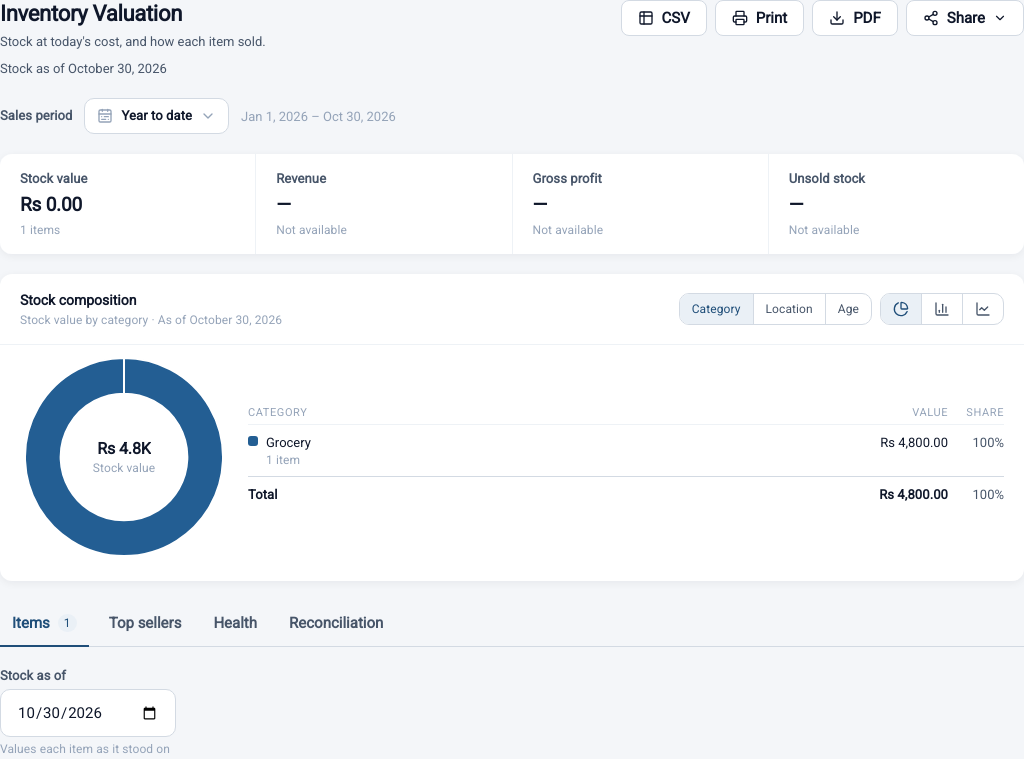
Test: InventoryValuationPage — stock composition › switches to bars and to the month-end line, keeping the choice in the URL
Expected: the table named "Stock value by category" is shown, [248,402,1004,512]
What coordinates should you click on to do the following:
click the button named "Bar chart"
I would click on:
 (942, 309)
Its box is [921,294,962,324].
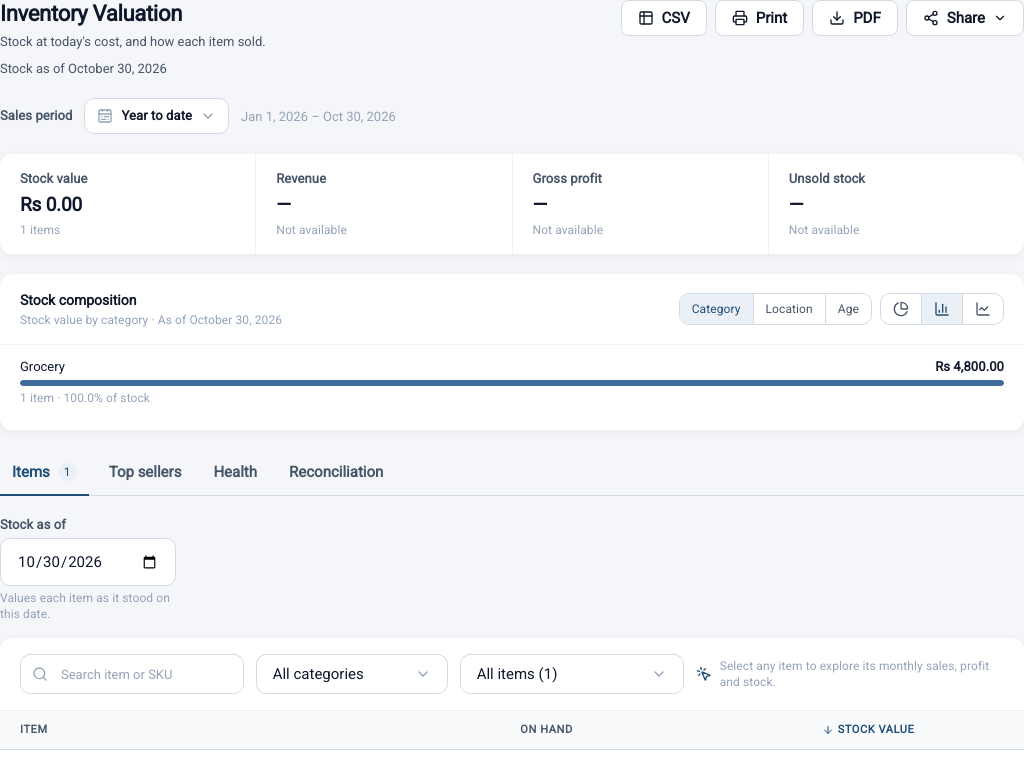
What coordinates should you click on to do the following:
click the button named "Line chart"
I would click on:
 (982, 309)
Its box is [962,294,1003,324].
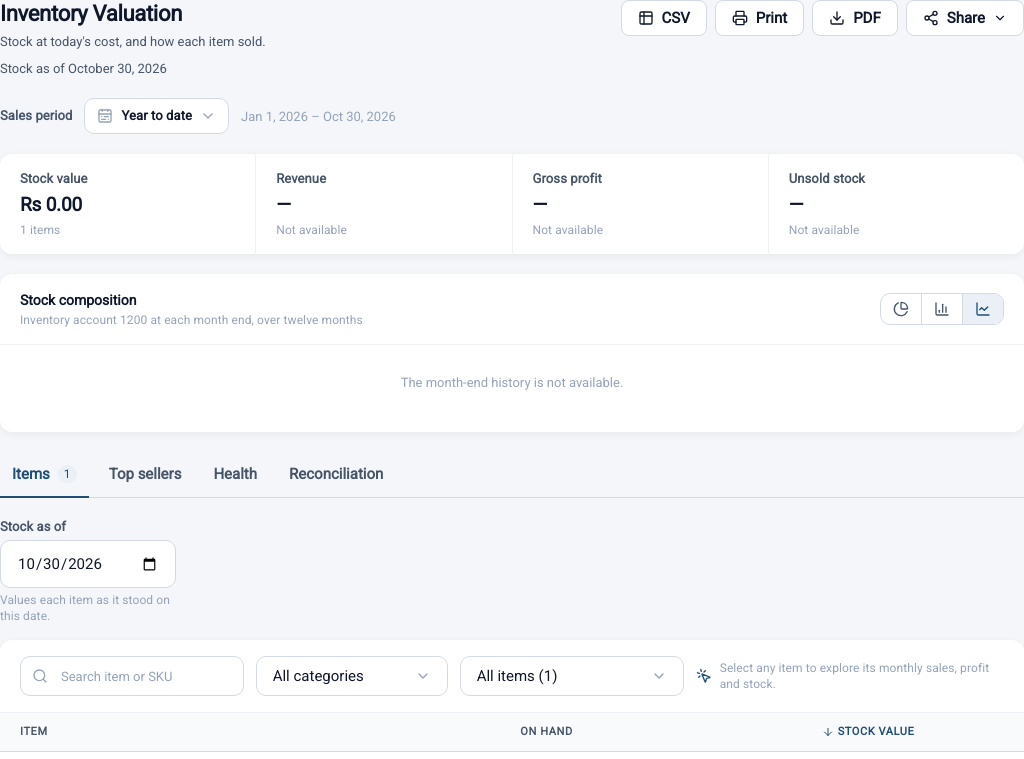
Now the text "The month-end history is not available." is shown, box [401,375,623,390]
